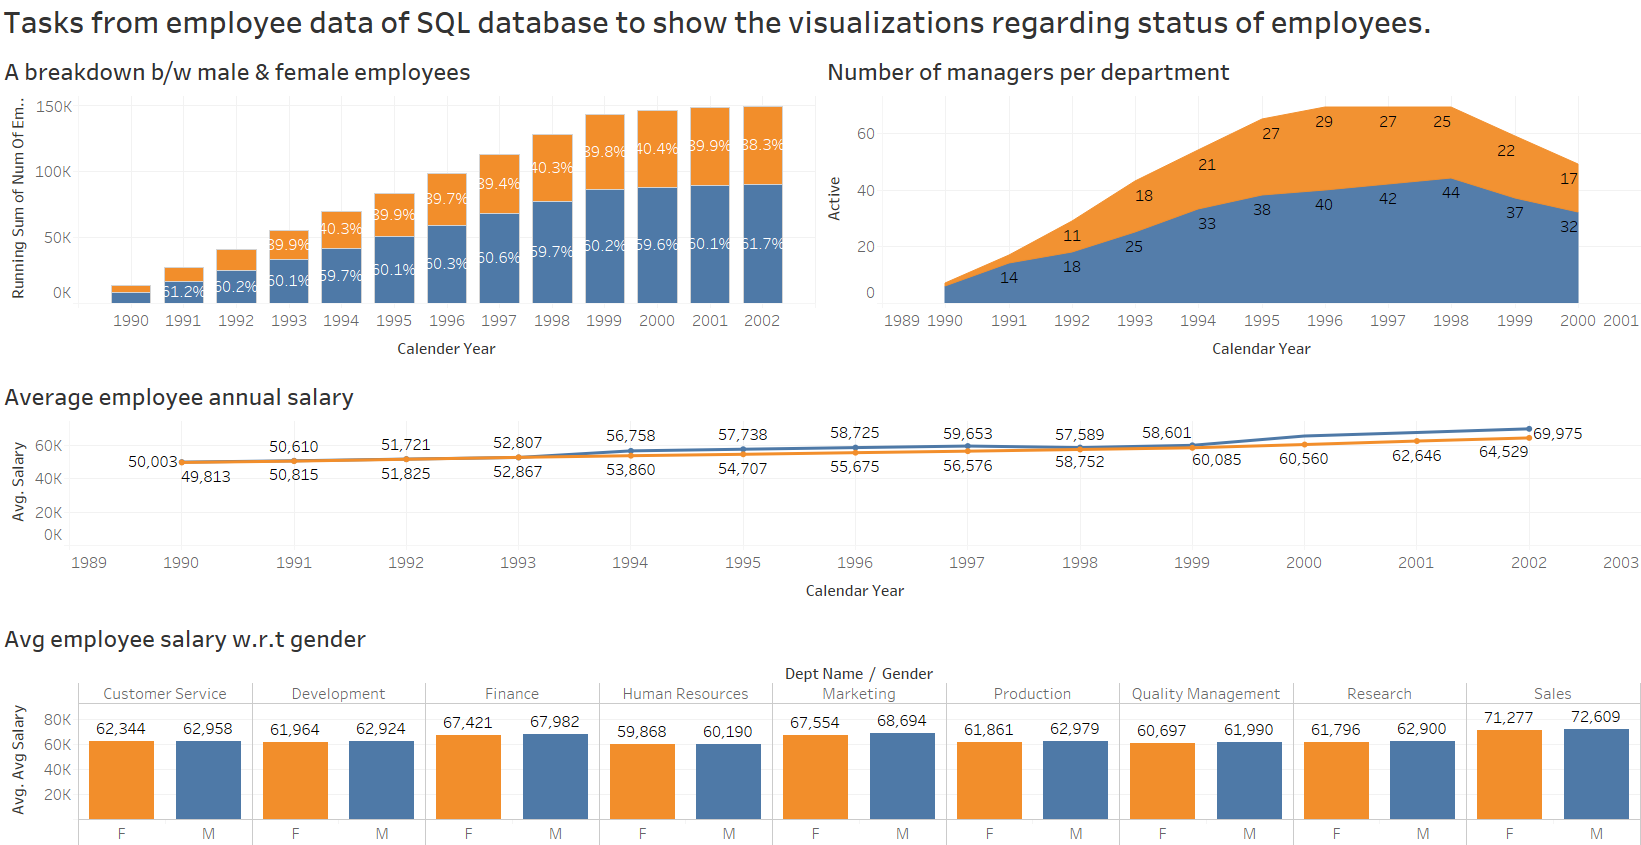

Layout of this report page (visuals, bound fields, positions):
{"tool":"tableau","page":{"name":"Dashboard 1","canvas":[1000,1000],"units":"permille","ordinal":0},"visuals":[{"type":"title","box":[0,0,1000,61.6]},{"type":"worksheet","title":"chart-1","mark":"Bar","rows":["num_of_employees"],"cols":["calender_year"],"box":[0,61.6,498.8,377.1]},{"type":"worksheet","title":"chart-2","mark":"Area","rows":["ACTIVE"],"cols":["calendar_year"],"box":[498.8,61.6,498.8,377.1]},{"type":"worksheet","title":"chart-3","mark":"Automatic","rows":["salary"],"cols":["calendar_year"],"box":[0,438.7,997.6,281.2]},{"type":"worksheet","title":"chart-4","mark":"Bar","rows":["avg_salary"],"cols":["dept_name","gender"],"box":[0,719.9,997.6,280.1]}]}

Visuals, with their boxes on the dashboard's canvas, which has no fixed pixel size, in thousandths of its width and height (x1, y1, x2, y2). These are canvas units, not pixel positions in the 1641x845 screenshot, which may show the page scaled, cropped or inside an application window:
title: <bbox>0, 0, 1000, 62</bbox>
"chart-1" worksheet (Bar marks): <bbox>0, 62, 499, 439</bbox>
"chart-2" worksheet (Area marks): <bbox>499, 62, 998, 439</bbox>
"chart-3" worksheet: <bbox>0, 439, 998, 720</bbox>
"chart-4" worksheet (Bar marks): <bbox>0, 720, 998, 1000</bbox>
